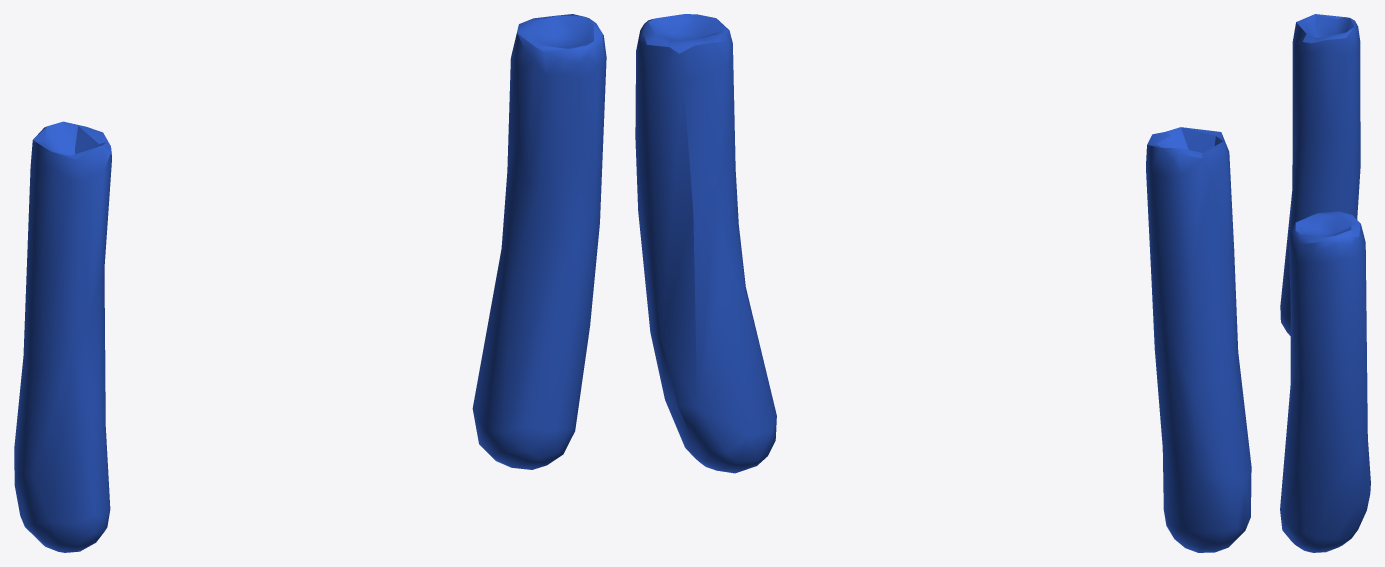
File: veins.neck.glb
3 views of the same model, side by side, from view 1: azimuth 30°, elevation 25°; view 2: azimuth 150°, elevation 25°; view 3: azimuth 270°, elevation 25° (orthographic). The views are drawn at different scales.
Visible parts, largest first — view 1: left_internal_jugular_vein, right_internal_jugular_vein; view 2: left_internal_jugular_vein, right_internal_jugular_vein; view 3: left_internal_jugular_vein, right_internal_jugular_vein.
Boxes of the visible parts, x1,y1,x2,y2 form: left_internal_jugular_vein: (472, 14, 606, 469); right_internal_jugular_vein: (14, 121, 111, 552); left_internal_jugular_vein: (635, 14, 776, 473); right_internal_jugular_vein: (1146, 127, 1251, 552); left_internal_jugular_vein: (1280, 211, 1370, 552); right_internal_jugular_vein: (1280, 14, 1360, 335).
Bounding box in the file's own units: 0.062 × 0.0443 × 0.0104.
